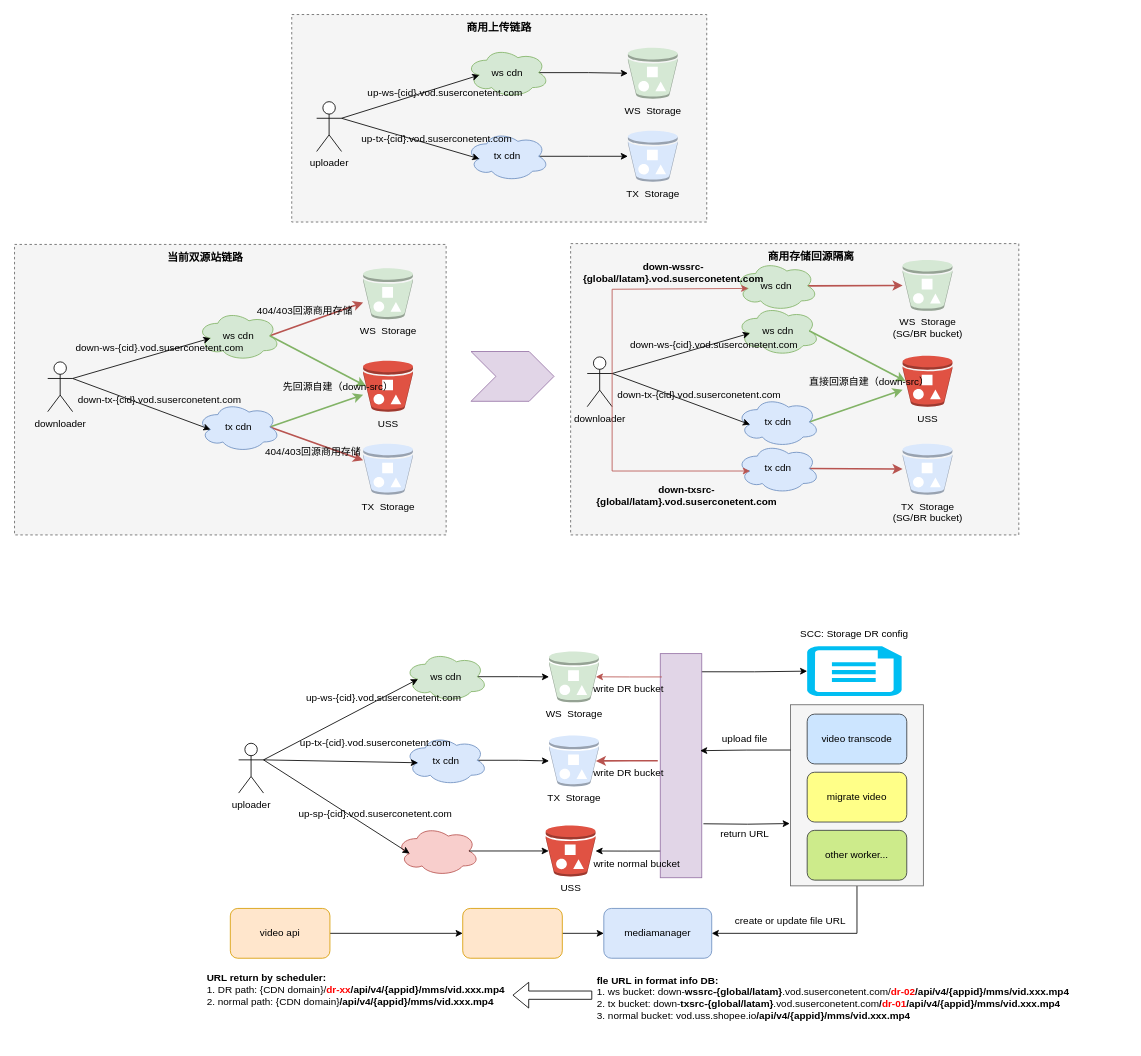
Some shapes in this 1141 by 1056 pixel diagram are drawn without their labels. Each missing label, with the centre of its shape:
"sp cdn" belongs at pixel 437 850.
"upload sdk" belongs at pixel 680 765.
"video dispatcher" belongs at pixel 512 933.
"变更为" belongs at pixel 512 376.
